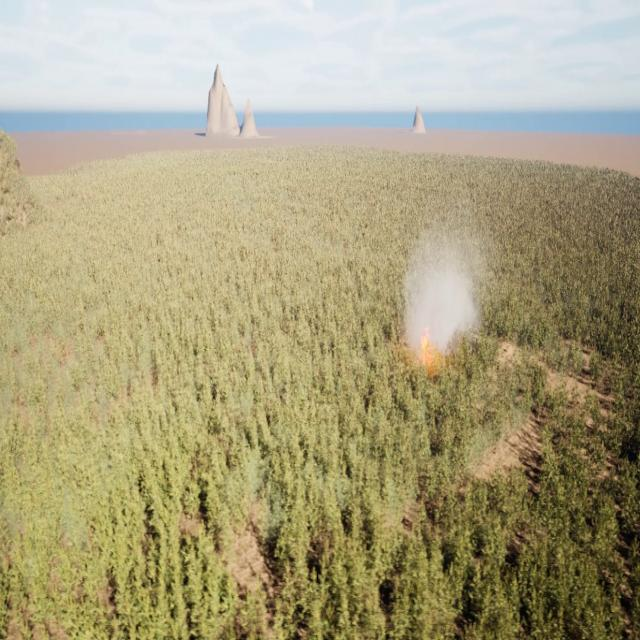fire: (418, 322, 440, 368)
smoke: (402, 223, 486, 360)
